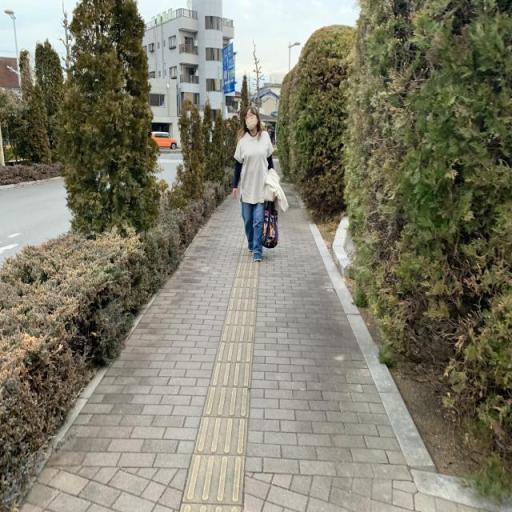line: (182, 454, 246, 506), (193, 417, 249, 455), (201, 386, 251, 418), (209, 362, 252, 388), (214, 342, 254, 363), (219, 325, 256, 343), (224, 311, 256, 326)
